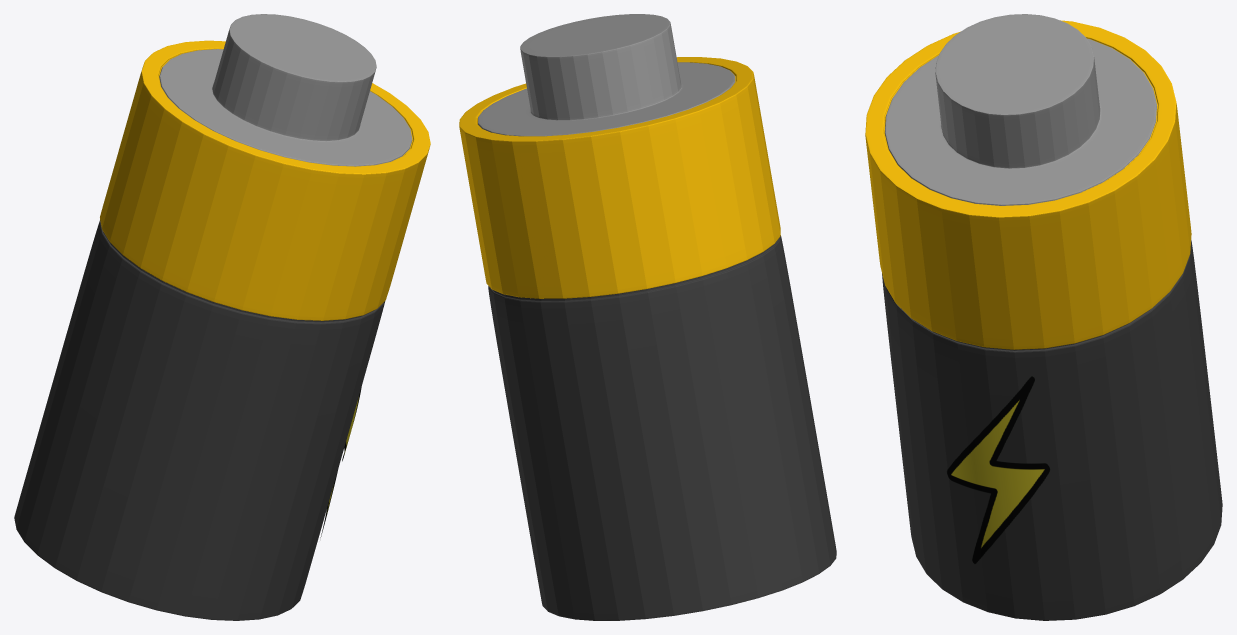
The model's file is battery2.0.glb.
3 renders of one model, left to right at view 1: azimuth 30°, elevation 25°; view 2: azimuth 150°, elevation 25°; view 3: azimuth 270°, elevation 25°, orthographic. The views are drawn at different scales.
Visible parts, largest first — view 1: Cylinder; view 2: Cylinder; view 3: Cylinder.
Part boxes in pixels (x1,y1,x2,y2): Cylinder: [14, 14, 430, 620]; Cylinder: [459, 14, 836, 620]; Cylinder: [865, 14, 1222, 620].
Size of the model in its own units: 2.48 by 3.64 by 2.06.
Materials: 4 (1 with a texture image).
